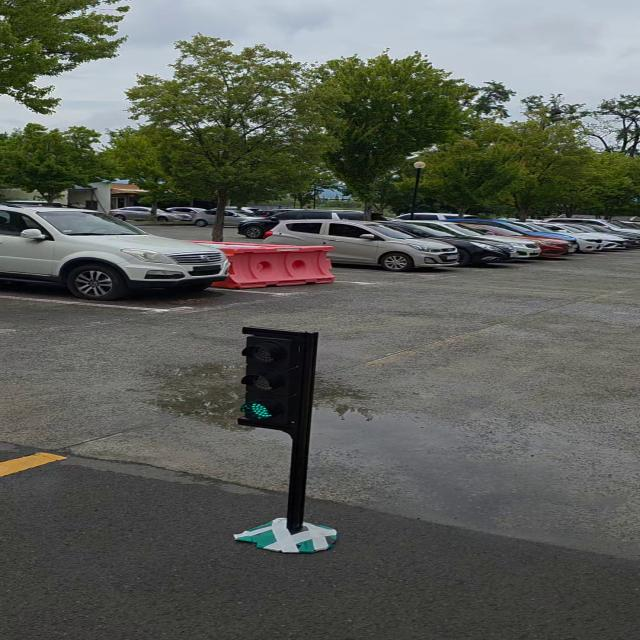green: (238, 328, 318, 432)
